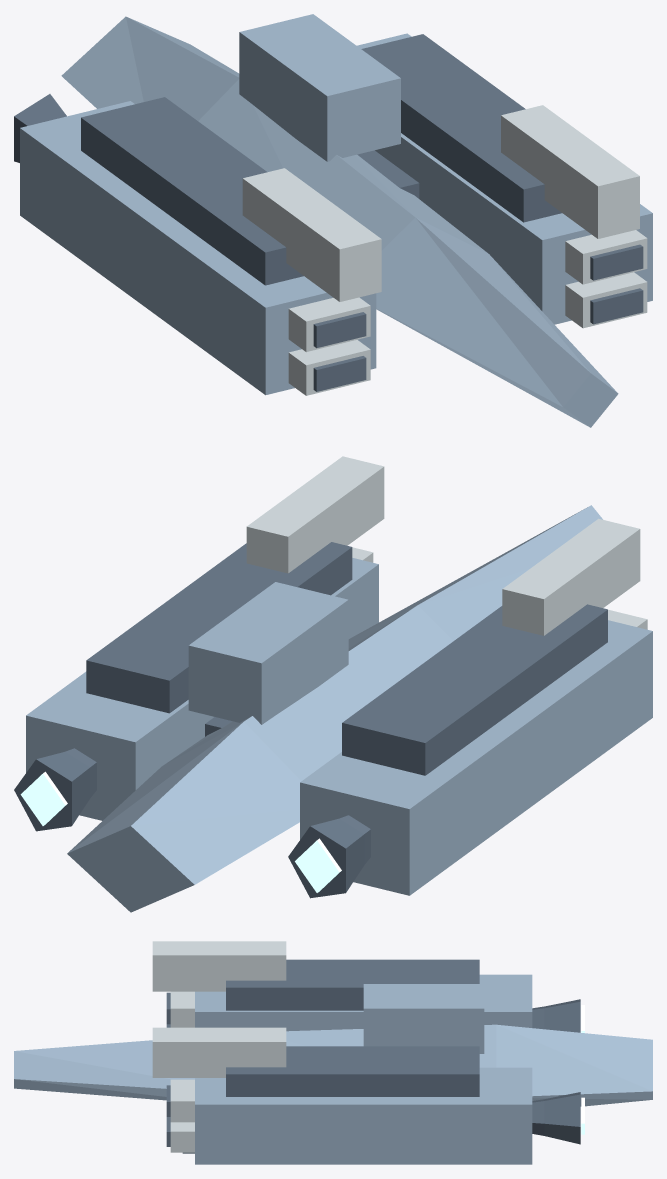
3 renders of one model, top to bottom at view 1: azimuth 30°, elevation 25°; view 2: azimuth 150°, elevation 25°; view 3: azimuth 270°, elevation 25°, orthographic. The views are drawn at different scales.
Bounding box in the file's own units: 9.22 × 4.48 × 19.16.
